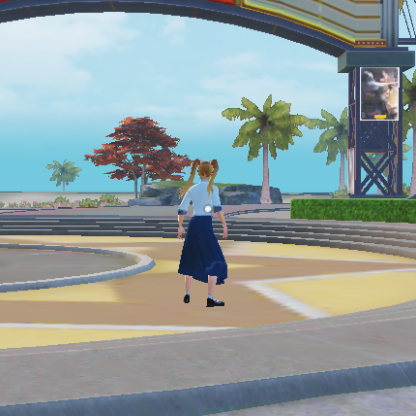ren: (175, 158, 235, 311), (366, 70, 394, 115)
tou: (190, 160, 227, 185), (367, 73, 377, 84)
